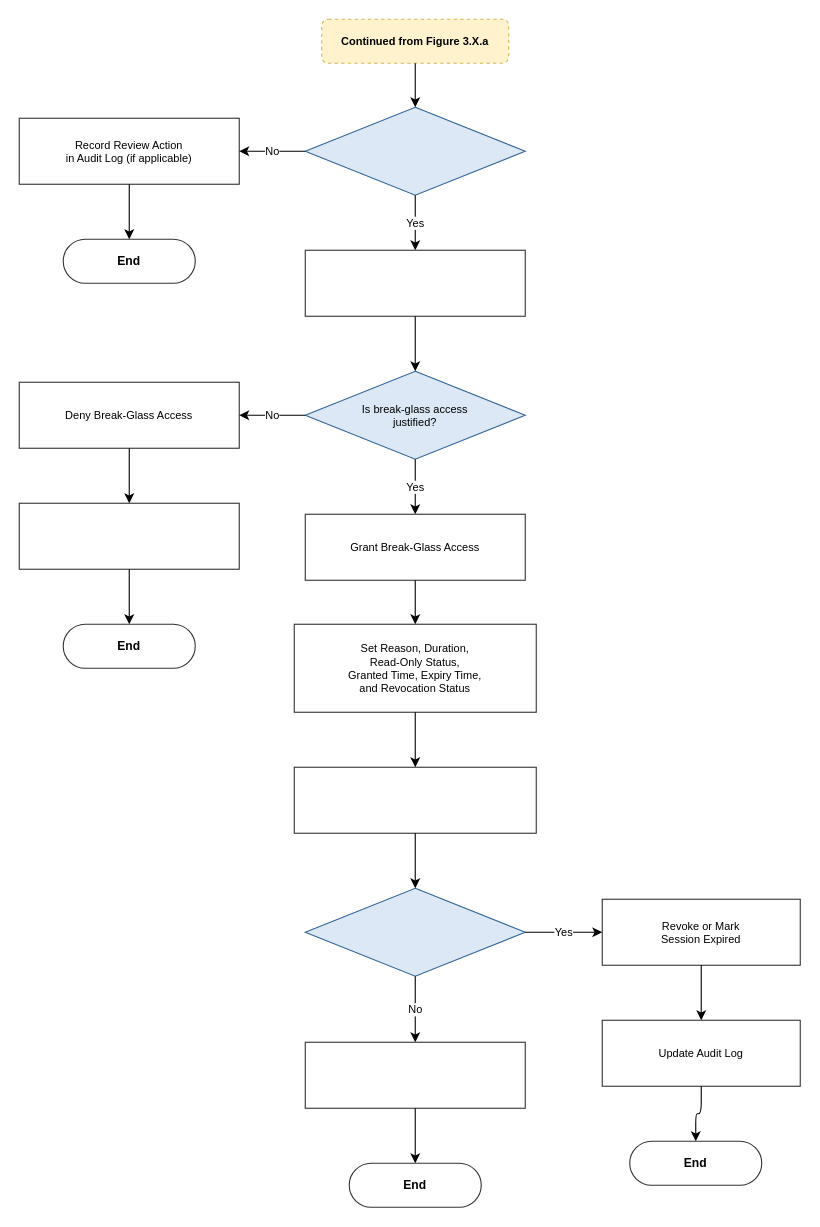
Image size: 820x1227. Some labels were removed from this diagram. Each missing label, with the box of its shape:
Does an issue require administrative review?: (304, 106, 525, 195)
Evaluate Issue: (304, 249, 525, 316)
Has break-glass access expired or been revoked?: (304, 887, 525, 976)
Maintain Access Until Expiry Only: (304, 1041, 525, 1108)
Record Denial in Audit Log: (18, 502, 239, 569)
System Records Admin Action in Audit Log: (293, 766, 536, 833)
